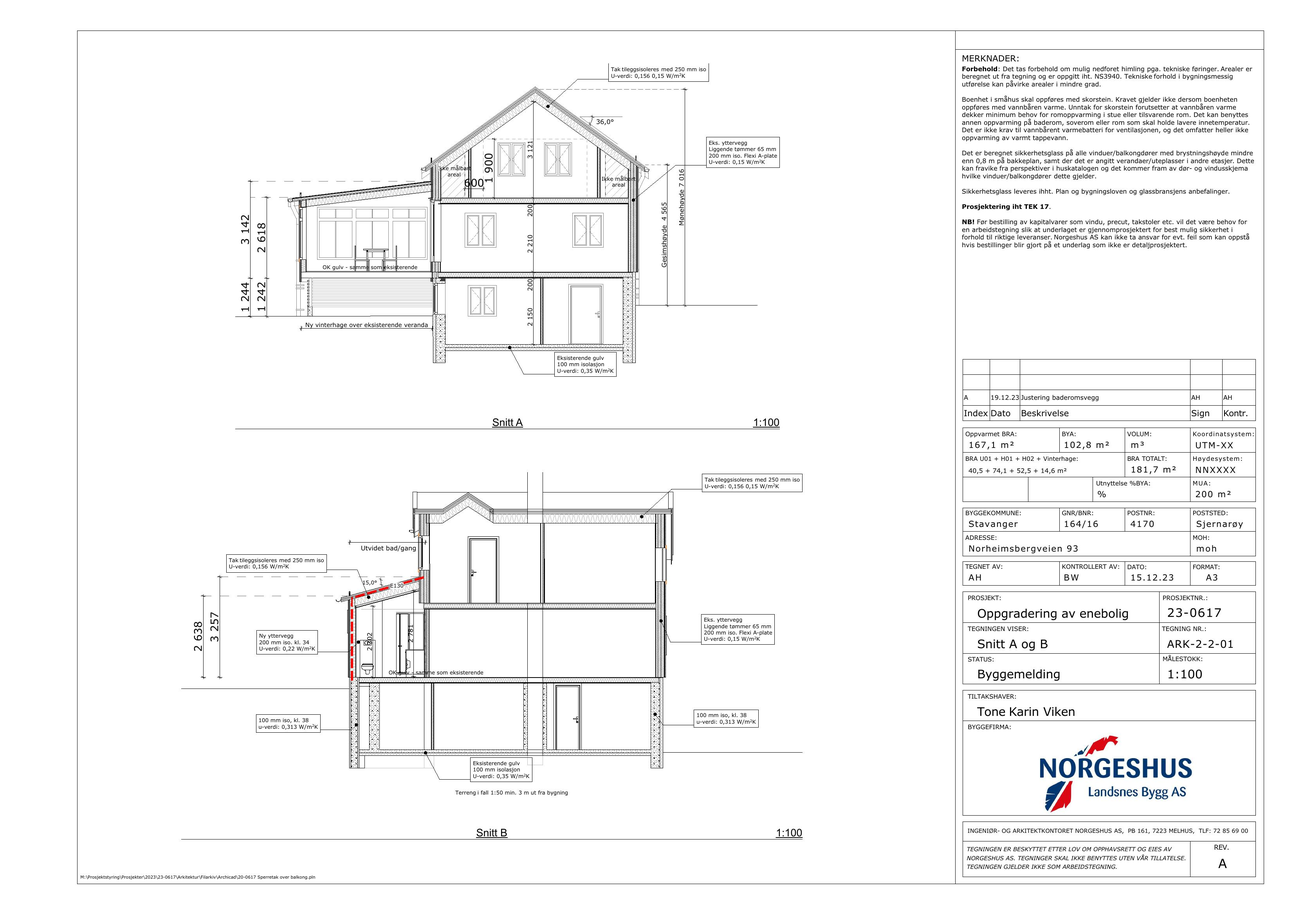snitt: (290, 88, 652, 365), (346, 492, 674, 770)
